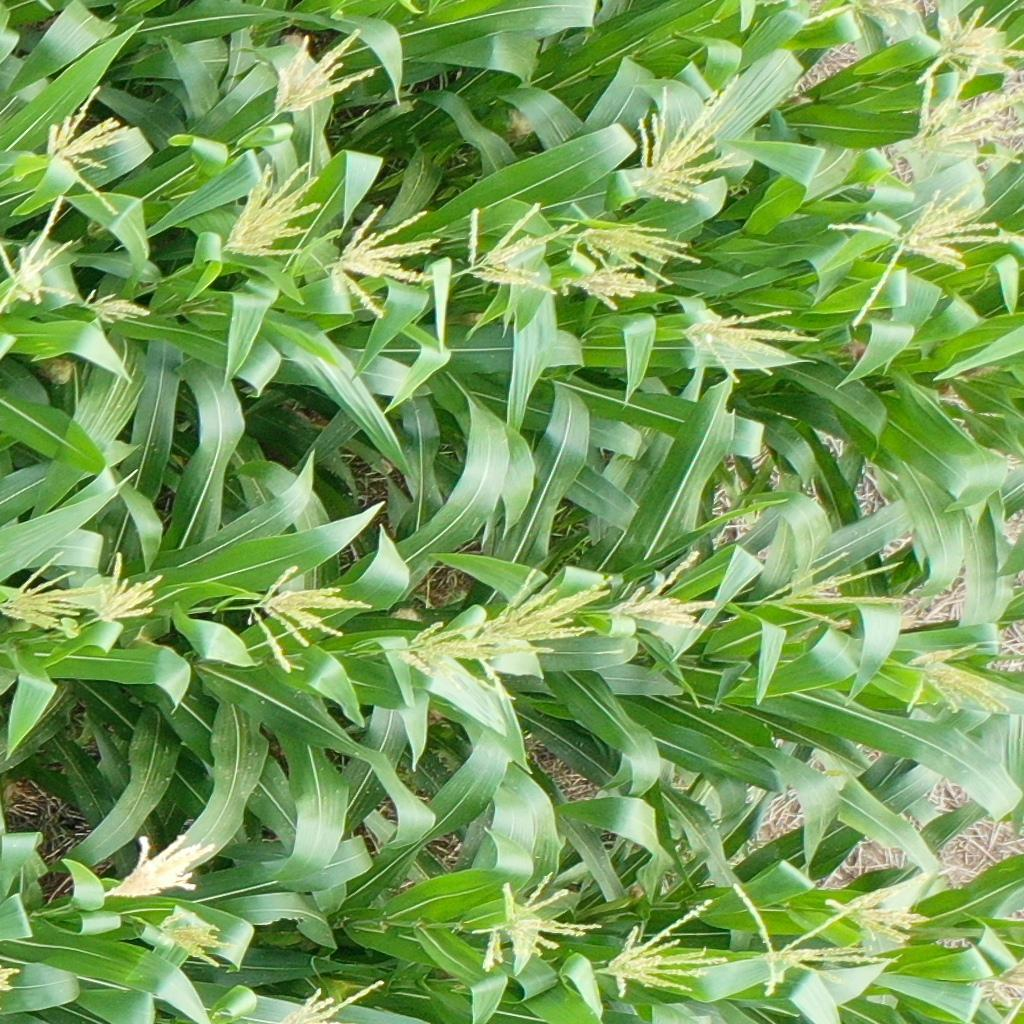Tassel: (824, 172, 1023, 328), (730, 879, 897, 997), (629, 75, 748, 202), (245, 565, 373, 677), (468, 870, 607, 973), (399, 615, 556, 704), (332, 204, 444, 322), (603, 897, 730, 1001), (758, 547, 906, 629), (42, 84, 125, 219), (459, 202, 577, 295), (684, 304, 819, 385), (900, 80, 1024, 165), (222, 159, 322, 261), (269, 30, 378, 117), (485, 570, 613, 644), (568, 218, 705, 286), (1, 195, 78, 313), (900, 641, 1014, 719), (614, 551, 718, 634), (1, 552, 106, 632), (917, 5, 1024, 82), (105, 834, 216, 901), (823, 871, 928, 940), (557, 262, 657, 312), (96, 551, 163, 625), (282, 978, 383, 1024), (154, 910, 230, 968), (801, 1, 923, 31), (82, 289, 155, 327), (970, 957, 1024, 1006), (1, 961, 22, 994)
